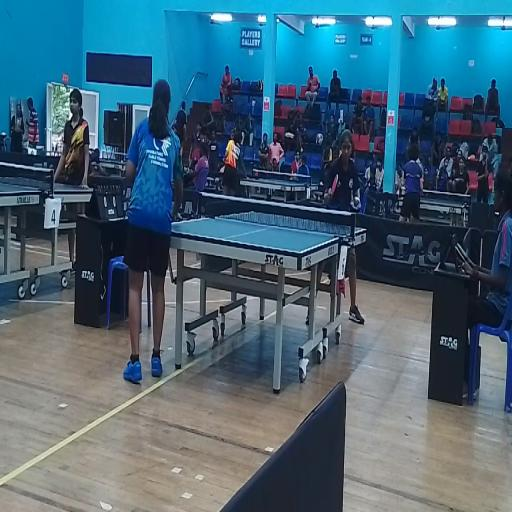ball: (354, 194, 360, 209)
